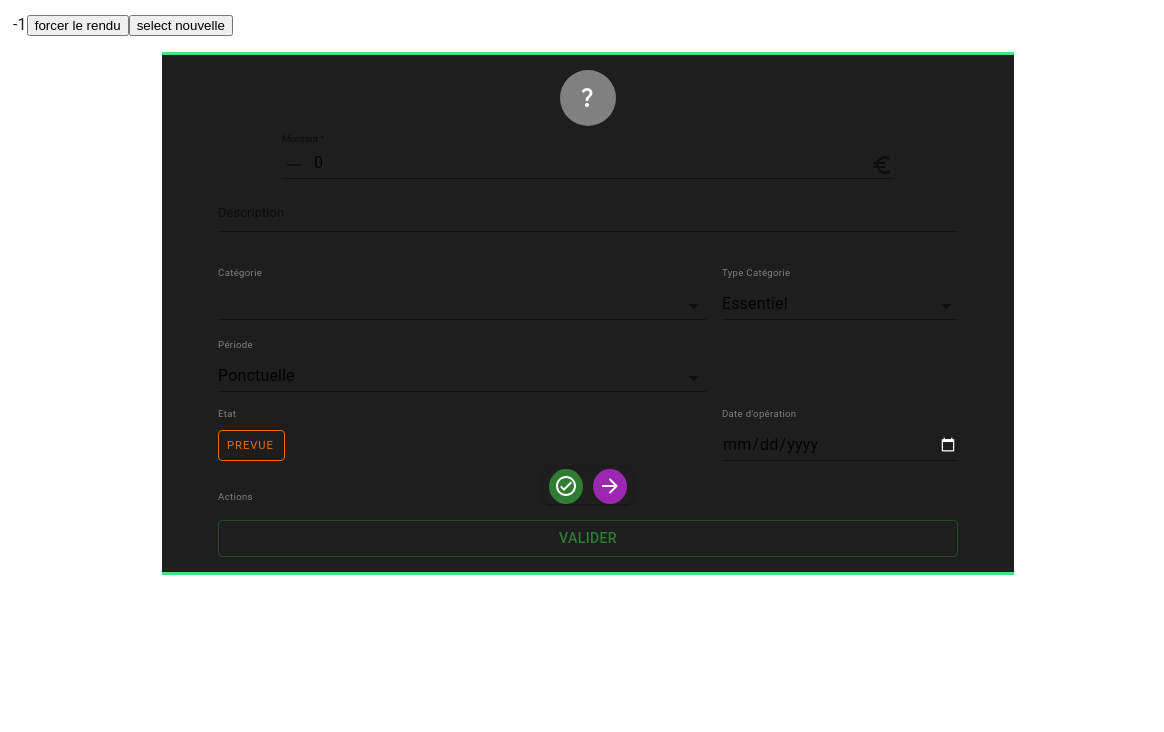
Test: OperationDetailPage - intégration › création d'une nouvelle opération › formulaire invalide : erreurs affichées et aucun appel de sauvegarde
The width and height of the screenshot is (1164, 732).
Step 1. Click the button "Valider" → (588, 538), box [218, 520, 958, 556]
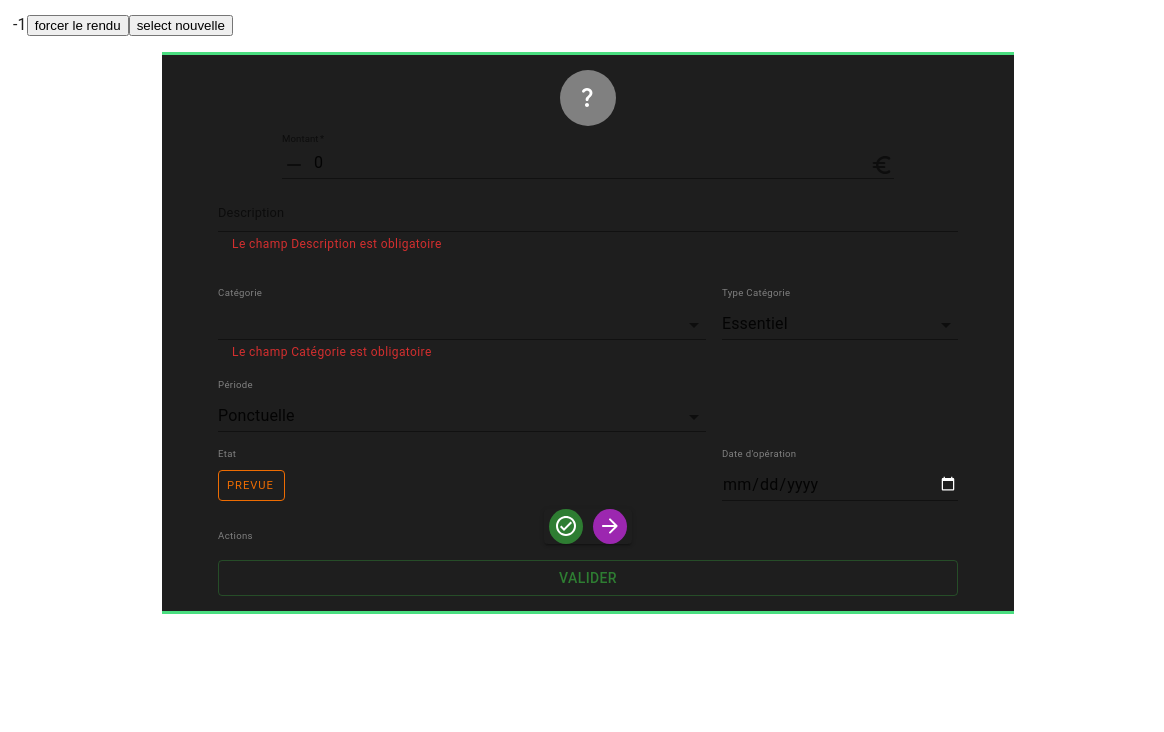
Result: the text "Le champ Description est obligatoire" is shown at [232, 237, 442, 251]
Result: the text "Le champ Catégorie est obligatoire" is shown at [232, 345, 432, 359]
